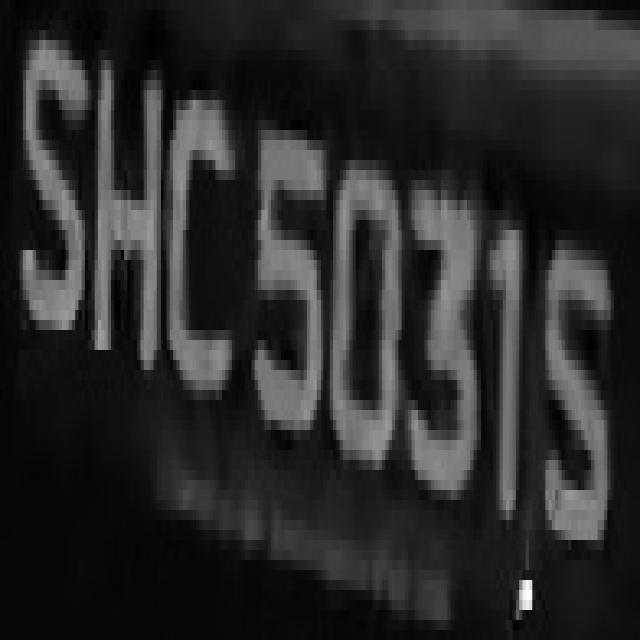0: (323, 120, 408, 520)
1: (483, 180, 526, 580)
3: (408, 140, 483, 540)
5: (245, 100, 323, 460)
C: (166, 70, 242, 420)
H: (88, 40, 163, 390)
S: (16, 10, 95, 360), (539, 210, 614, 570)
